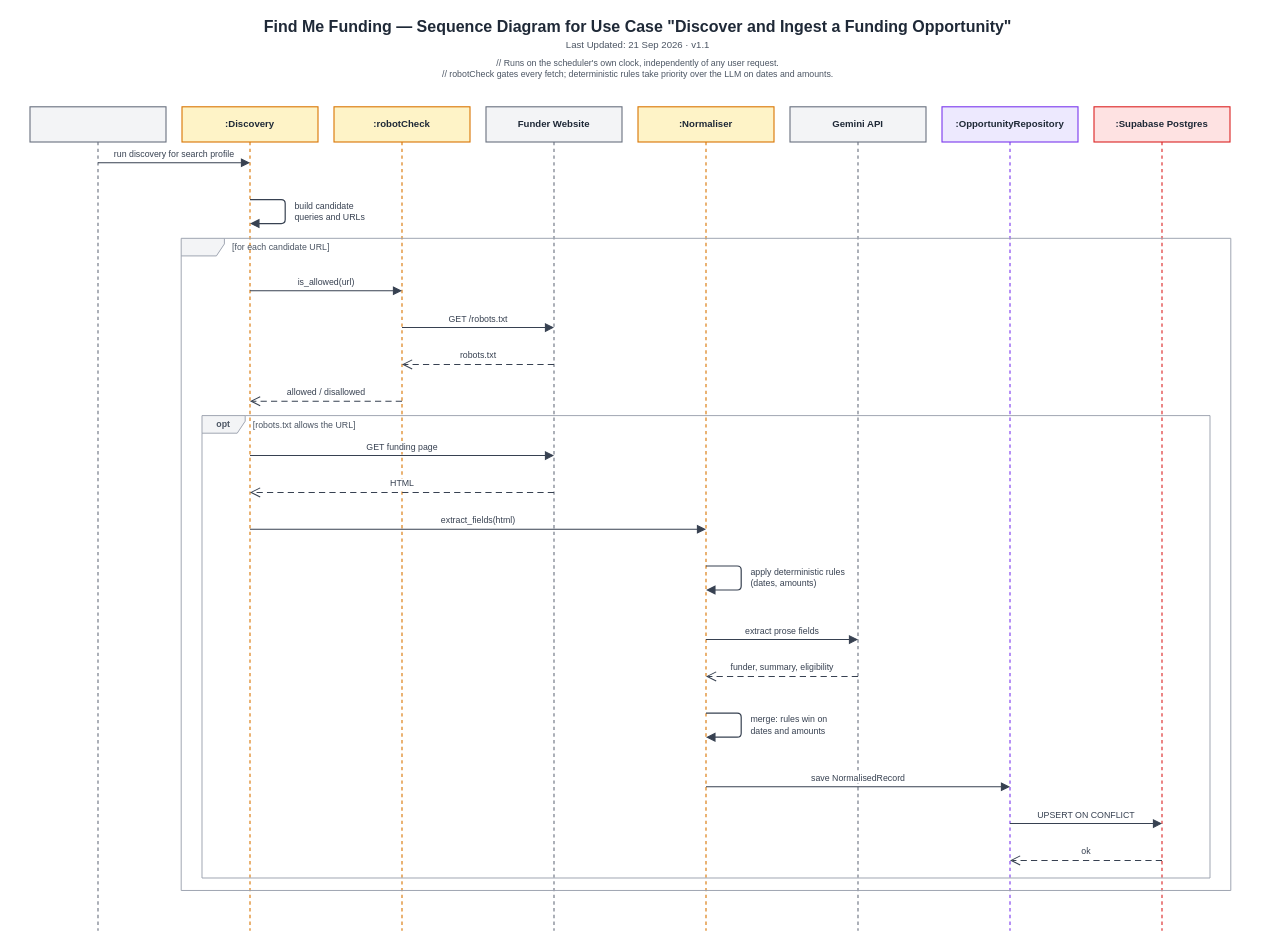
Image size: 1275x945. Some labels were removed from this diagram. The shapes that lost their labels are listed below. From the top down, each one's box as (x1, y1, x2, y2) in pixels, then its label:
(29, 106, 166, 931): :Scheduler
(180, 237, 1231, 891): loop
